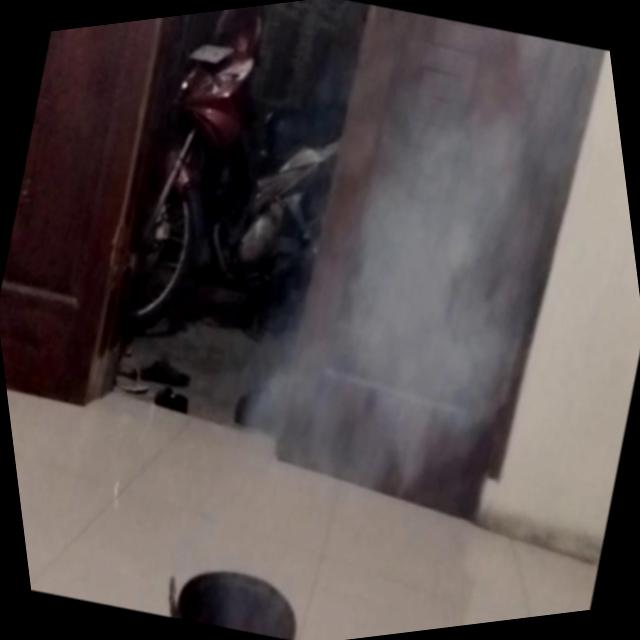smoke: (123, 255, 582, 640), (236, 0, 640, 405)
